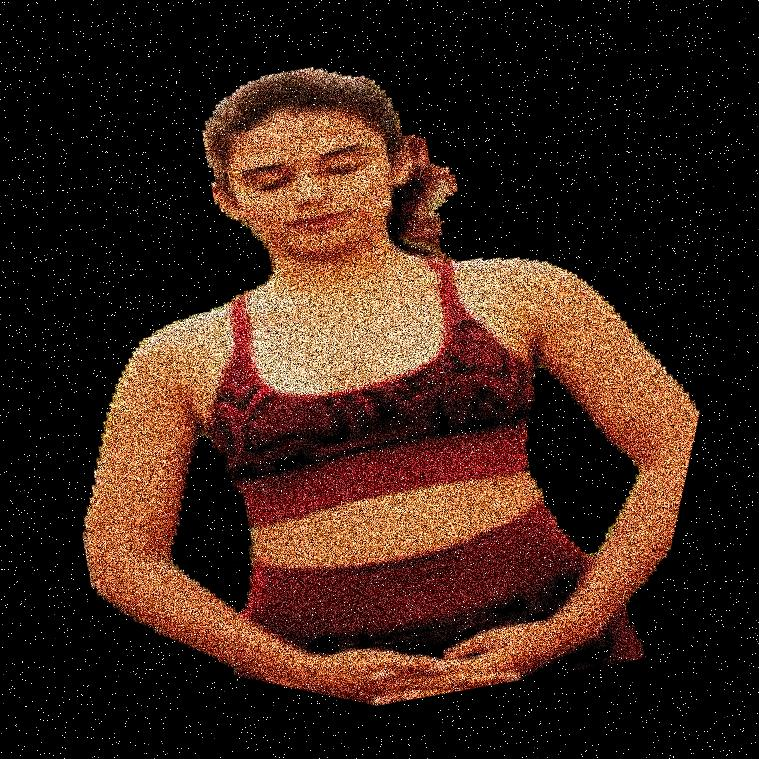Pessoa: (256, 0, 565, 758)
